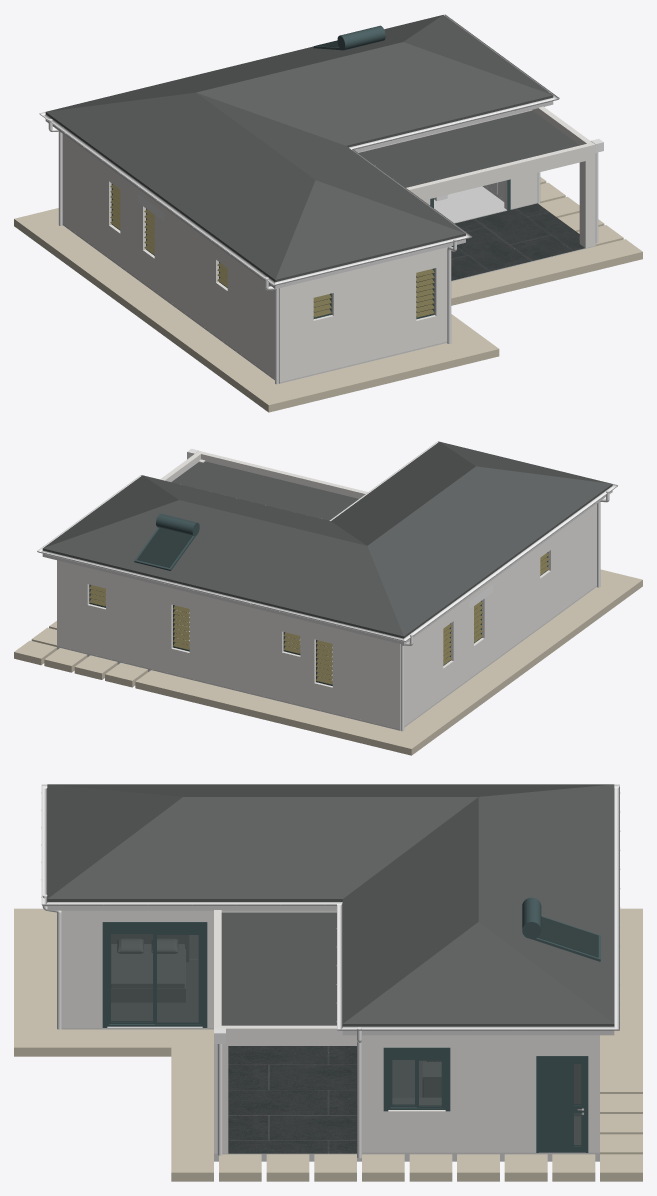
Rendered from INTEMPOREL_HOME.glb.
The picture shows the model from 3 angles, top to bottom: view 1: azimuth 30°, elevation 25°; view 2: azimuth 150°, elevation 25°; view 3: azimuth 270°, elevation 25°; orthographic projection. The views are drawn at different scales.
Visible parts, largest first — view 1: toit001, toit, Geometry36_dalles_0, Geometry17_murs_0, Geometry16_murs_0, Geometry39_toitpatio_0, Geometry40_sol dark_0, Geometry38_murs_0, Geometry27_murs2_0, Geometry102_murs_0, Geometry54_gouttiere_0, Geometry15_murs_0 (+8 smaller); view 2: toit001, Geometry14_murs_0, toit, Geometry17_murs_0, Geometry36_dalles_0, Geometry39_toitpatio_0, Geometry143_acier_0, Geometry165_murs2_0, Geometry38_murs_0, Geometry58_gouttiere_0, vitrevasist, Geometry27_murs2_0 (+9 smaller); view 3: toit001, toit, Geometry36_dalles_0, Geometry13_murs_0, Geometry40_sol dark_0, Geometry39_toitpatio_0, Geometry29_vitre_0, Geometry18_murs_0, Geometry73_interieur_0, Geometry27_murs2_0, Geometry127_acierpaint_0, Geometry77_murs_0 (+33 smaller).
Boxes of the visible parts, box(x1,y1,x2,y2) form: toit001: box(45, 15, 552, 281); toit: box(47, 15, 553, 281); Geometry36_dalles_0: box(14, 208, 642, 412); Geometry17_murs_0: box(64, 135, 274, 378); Geometry16_murs_0: box(278, 247, 447, 382); Geometry39_toitpatio_0: box(358, 110, 579, 187); Geometry40_sol dark_0: box(451, 203, 584, 280); Geometry38_murs_0: box(406, 143, 595, 200); Geometry27_murs2_0: box(62, 186, 537, 383); Geometry102_murs_0: box(579, 158, 595, 247); Geometry54_gouttiere_0: box(39, 113, 275, 285); Geometry15_murs_0: box(358, 110, 532, 209); toit001: box(44, 442, 612, 638); Geometry14_murs_0: box(62, 561, 400, 729); toit: box(42, 442, 610, 638); Geometry17_murs_0: box(404, 505, 595, 725); Geometry36_dalles_0: box(135, 569, 642, 755); Geometry39_toitpatio_0: box(171, 461, 358, 520); Geometry143_acier_0: box(134, 514, 199, 570); Geometry165_murs2_0: box(42, 551, 403, 644); Geometry38_murs_0: box(199, 451, 367, 498); Geometry58_gouttiere_0: box(37, 550, 405, 641); vitrevasist: box(137, 528, 192, 567); Geometry27_murs2_0: box(57, 585, 596, 730); toit001: box(47, 784, 614, 1026); toit: box(47, 784, 614, 1023); Geometry36_dalles_0: box(14, 908, 642, 1181); Geometry13_murs_0: box(362, 1035, 599, 1152); Geometry40_sol dark_0: box(228, 1046, 356, 1153); Geometry39_toitpatio_0: box(221, 912, 336, 1025); Geometry29_vitre_0: box(111, 934, 198, 1022); Geometry18_murs_0: box(69, 910, 336, 1027); Geometry73_interieur_0: box(111, 934, 185, 1002); Geometry27_murs2_0: box(61, 935, 599, 1161); Geometry127_acierpaint_0: box(536, 1056, 588, 1152); Geometry77_murs_0: box(214, 1025, 356, 1045).
Size of the model in its own units: 13.1 by 4.41 by 13.2.
Materials: 15 (1 with a texture image).
